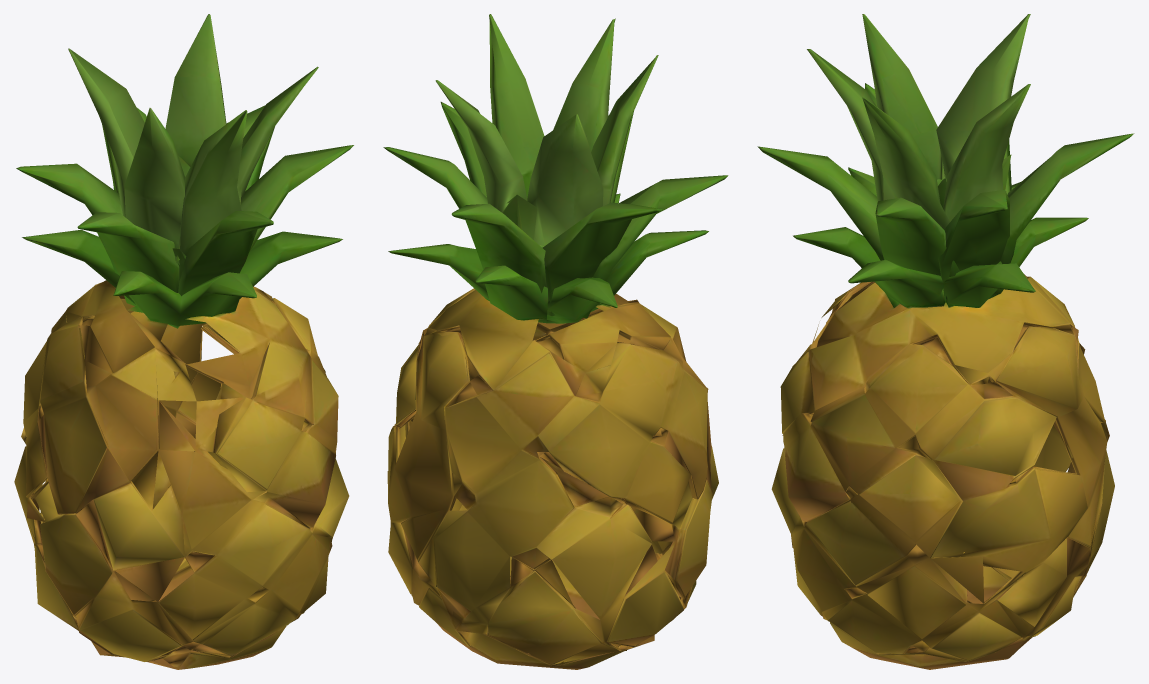
Rendered from 레벨1_파인애플.glb.
3 renders of one model, left to right at view 1: azimuth 30°, elevation 25°; view 2: azimuth 150°, elevation 25°; view 3: azimuth 270°, elevation 25°, orthographic. The views are drawn at different scales.
Visible parts, largest first — view 1: tripo_node_7c1041f5-f021-4b6c-9f10-3868995bfadc; view 2: tripo_node_7c1041f5-f021-4b6c-9f10-3868995bfadc; view 3: tripo_node_7c1041f5-f021-4b6c-9f10-3868995bfadc.
Boxes of the visible parts, box(x1,y1,x2,y2) form: tripo_node_7c1041f5-f021-4b6c-9f10-3868995bfadc: box(14, 14, 353, 669); tripo_node_7c1041f5-f021-4b6c-9f10-3868995bfadc: box(383, 14, 728, 669); tripo_node_7c1041f5-f021-4b6c-9f10-3868995bfadc: box(757, 14, 1134, 669).
Size of the model in its own units: 0.5059 by 0.998 by 0.5684.
Materials: 1 (1 with a texture image).
